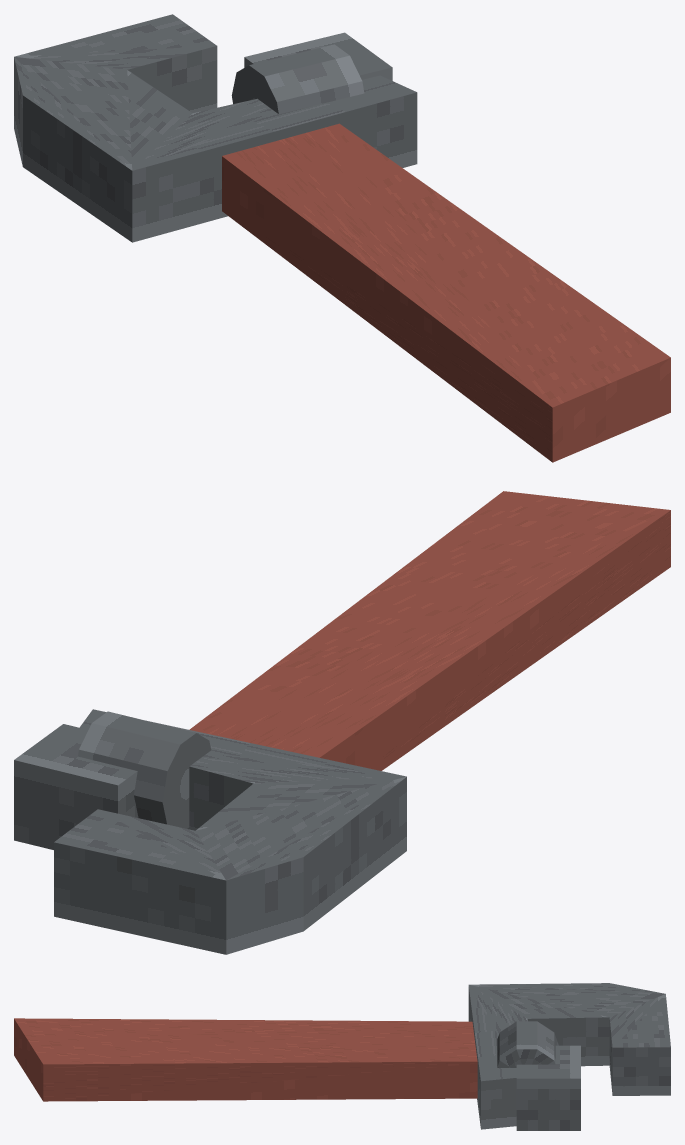
The model's file is wrench_48.glb.
The picture shows the model from 3 angles, top to bottom: view 1: azimuth 30°, elevation 25°; view 2: azimuth 150°, elevation 25°; view 3: azimuth 270°, elevation 25°; orthographic projection. The views are drawn at different scales.
Visible parts, largest first — view 1: block_wrench handle, block_hook jaw, block_knurled adjustment, block_adjustable jaw; view 2: block_wrench handle, block_hook jaw, block_adjustable jaw, block_knurled adjustment; view 3: block_wrench handle, block_hook jaw, block_adjustable jaw, block_knurled adjustment.
Boxes of the visible parts, <box> form: block_wrench handle: <box>222,123,670,462</box>; block_hook jaw: <box>14,14,417,242</box>; block_knurled adjustment: <box>231,44,364,114</box>; block_adjustable jaw: <box>244,32,392,80</box>; block_wrench handle: <box>189,491,670,770</box>; block_hook jaw: <box>54,709,406,954</box>; block_adjustable jaw: <box>14,724,138,849</box>; block_knurled adjustment: <box>78,711,211,828</box>; block_wrench handle: <box>14,1018,477,1101</box>; block_hook jaw: <box>468,983,670,1129</box>; block_adjustable jaw: <box>516,1045,580,1130</box>; block_knurled adjustment: <box>497,1021,558,1067</box>.
Size of the model in its own units: 0.4271 by 0.1358 by 1.2.
Materials: 1 (1 with a texture image).
